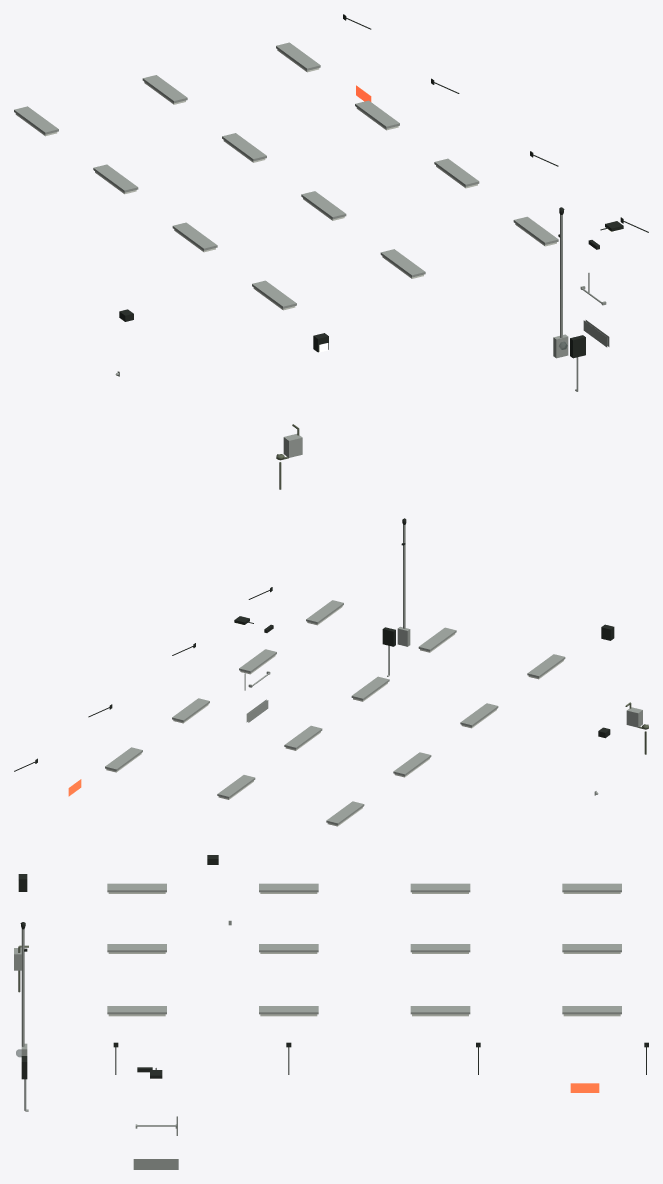
File: SM_Town_Laundry_Fixtures_LOD2.fbx
3 views of the same model, one above another, from view 1: azimuth 30°, elevation 25°; view 2: azimuth 150°, elevation 25°; view 3: azimuth 270°, elevation 25° (orthographic). The views are drawn at different scales.
Parts seen in each view (by area): view 1: SM_Town_Laundry_Fixtures_LOD2; view 2: SM_Town_Laundry_Fixtures_LOD2; view 3: SM_Town_Laundry_Fixtures_LOD2.
Boxes of the visible parts, box(x1,y1,x2,y2) form: SM_Town_Laundry_Fixtures_LOD2: box(14, 14, 648, 489); SM_Town_Laundry_Fixtures_LOD2: box(14, 518, 648, 826); SM_Town_Laundry_Fixtures_LOD2: box(14, 855, 648, 1169).
Size of the model in its own units: 11.09 by 13.4 by 4.7.
